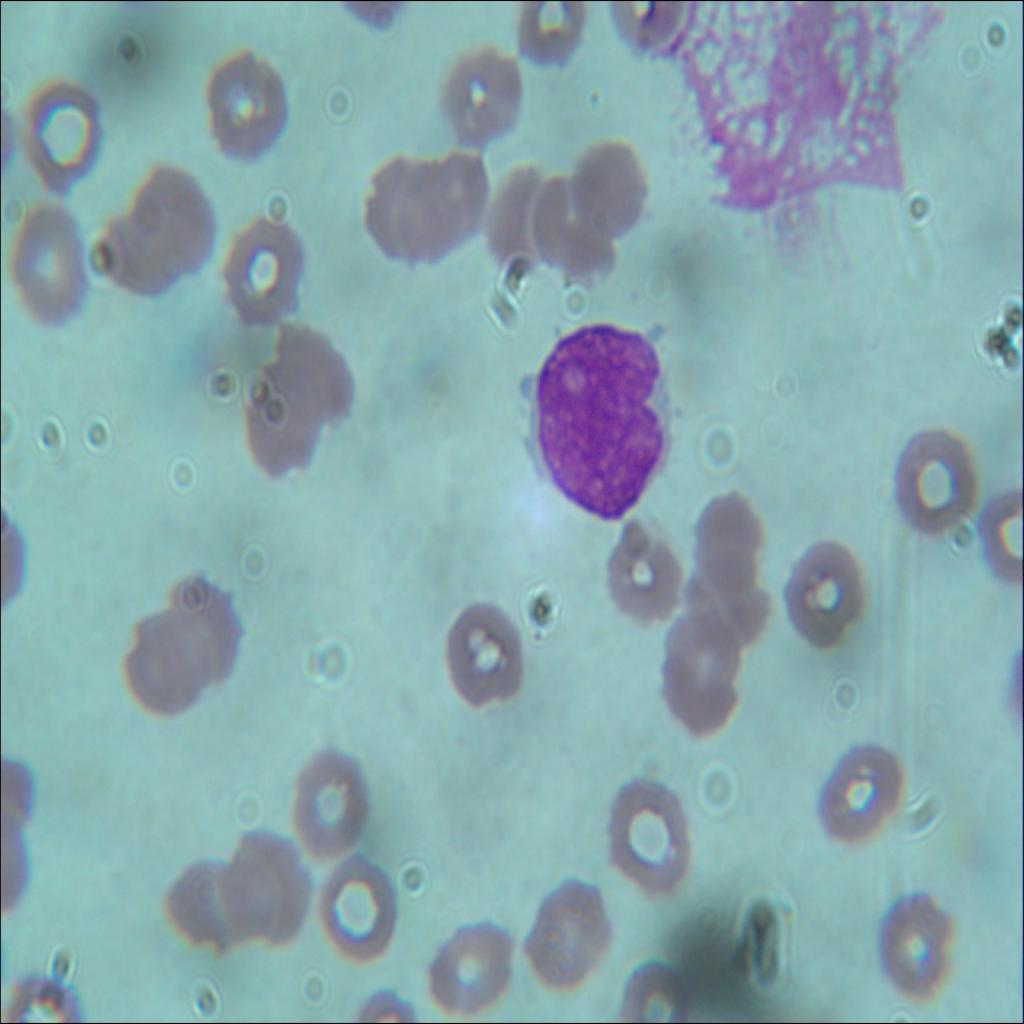Eritrosit: (436, 589, 528, 732), (874, 881, 962, 1011), (415, 909, 516, 1022), (10, 200, 94, 335), (214, 219, 308, 338), (784, 534, 874, 657), (661, 602, 741, 740), (608, 776, 694, 904), (890, 424, 978, 545), (696, 500, 774, 634), (598, 514, 690, 627), (810, 737, 904, 847), (123, 604, 211, 721), (522, 878, 612, 992), (261, 321, 355, 429), (408, 147, 493, 266), (201, 50, 288, 164), (162, 569, 243, 691), (290, 735, 368, 859), (229, 829, 313, 942), (24, 77, 106, 192), (478, 168, 563, 278), (246, 365, 324, 478), (321, 845, 398, 958), (440, 47, 522, 150), (569, 141, 651, 238), (536, 180, 606, 290), (354, 157, 424, 263), (170, 854, 238, 954), (611, 947, 693, 1023), (970, 484, 1024, 582), (515, 0, 588, 68)
Limfoblast: (519, 308, 669, 527)
